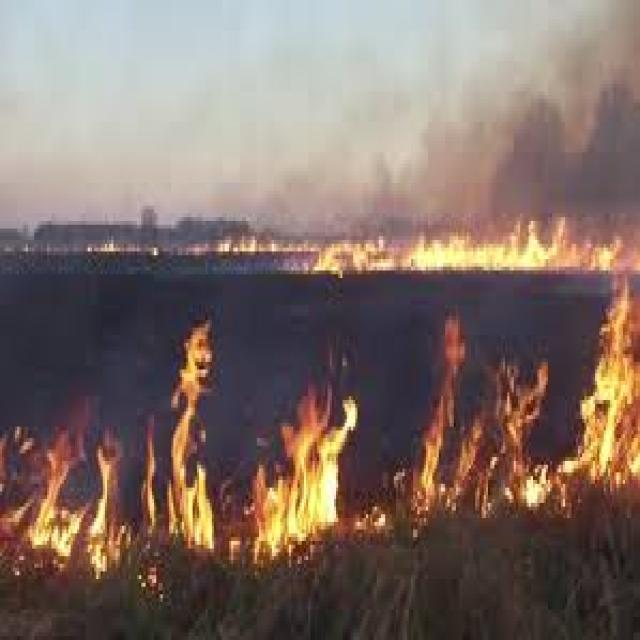Fire: (0, 320, 229, 589), (413, 294, 640, 552), (230, 320, 398, 561), (453, 208, 640, 278), (298, 198, 451, 280)
Smoke: (422, 22, 640, 198)
